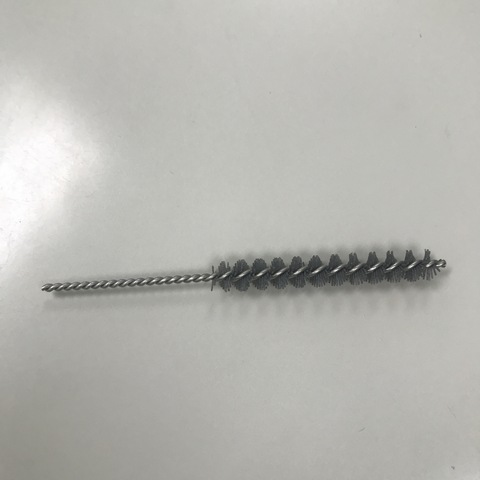Twist Brush-A: (35, 248, 454, 297)
